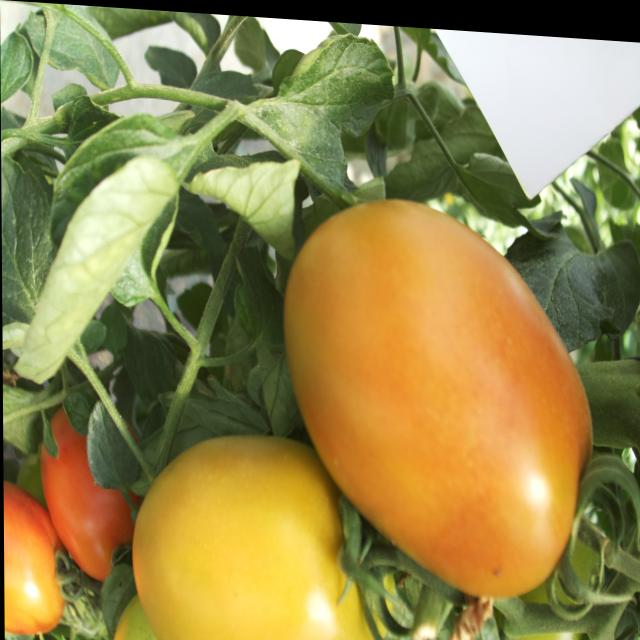sari: (234, 119, 617, 588)
